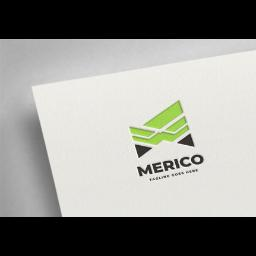c: (180, 156, 192, 168)
e: (152, 162, 164, 174)
i: (174, 158, 180, 170)
m: (136, 161, 152, 177)
o: (191, 154, 205, 166)
r: (162, 160, 176, 172)
